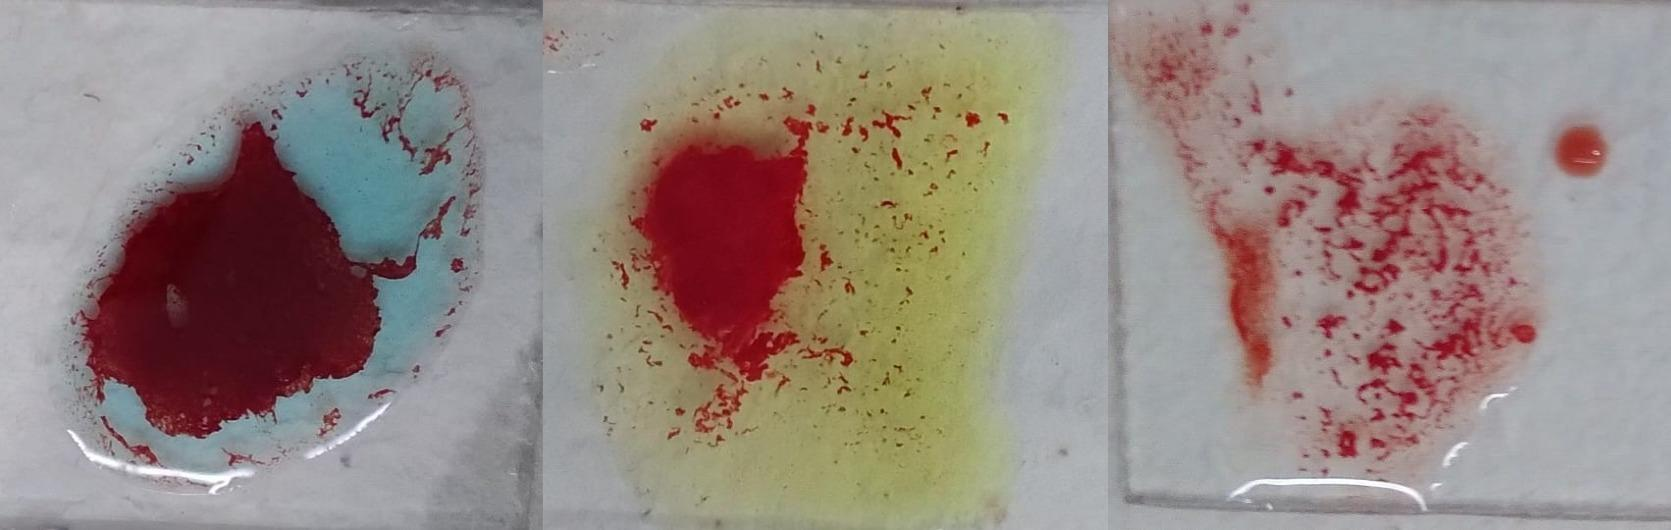A: (61, 34, 483, 496)
B: (582, 32, 993, 497)
D: (1232, 89, 1555, 486)
